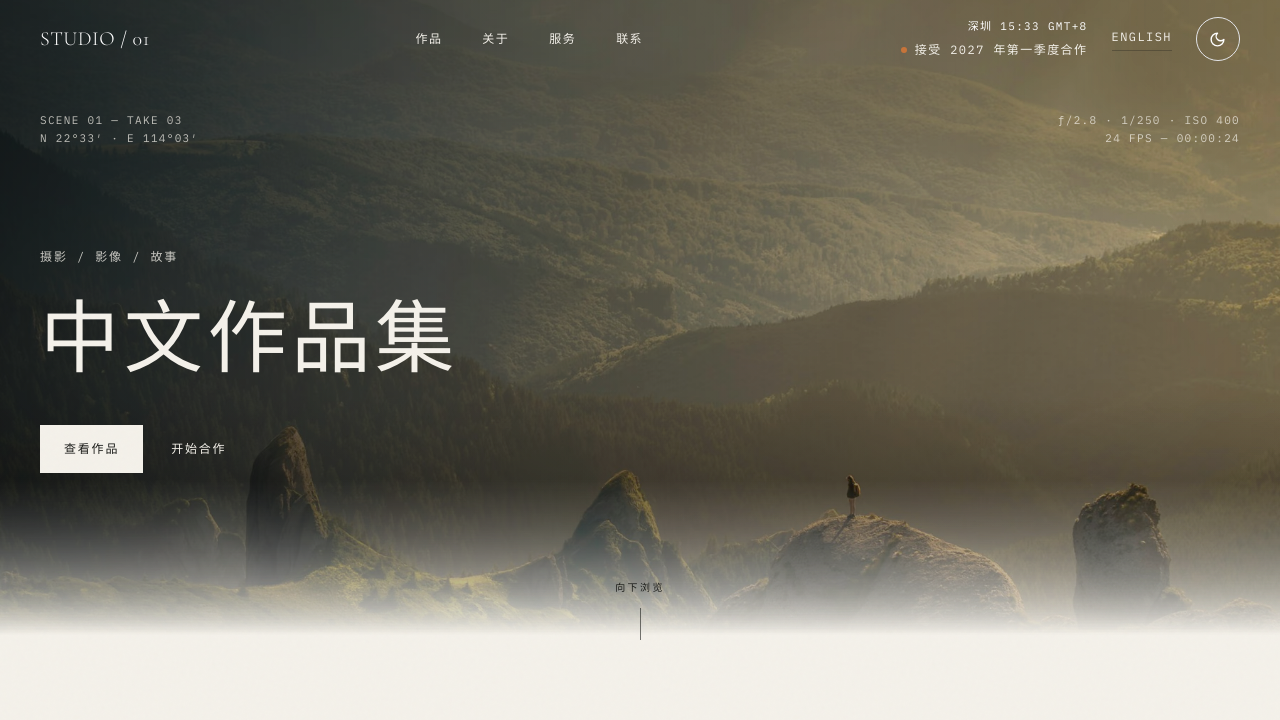
Scenario: admin to public content round trip › saves independent Chinese and English homepage copy
Check: the heading "中文作品集" is shown, box [40,293,459,389]
Click the button with aria-label "切换语言" at (1142, 39), box [1112,27,1172,51]
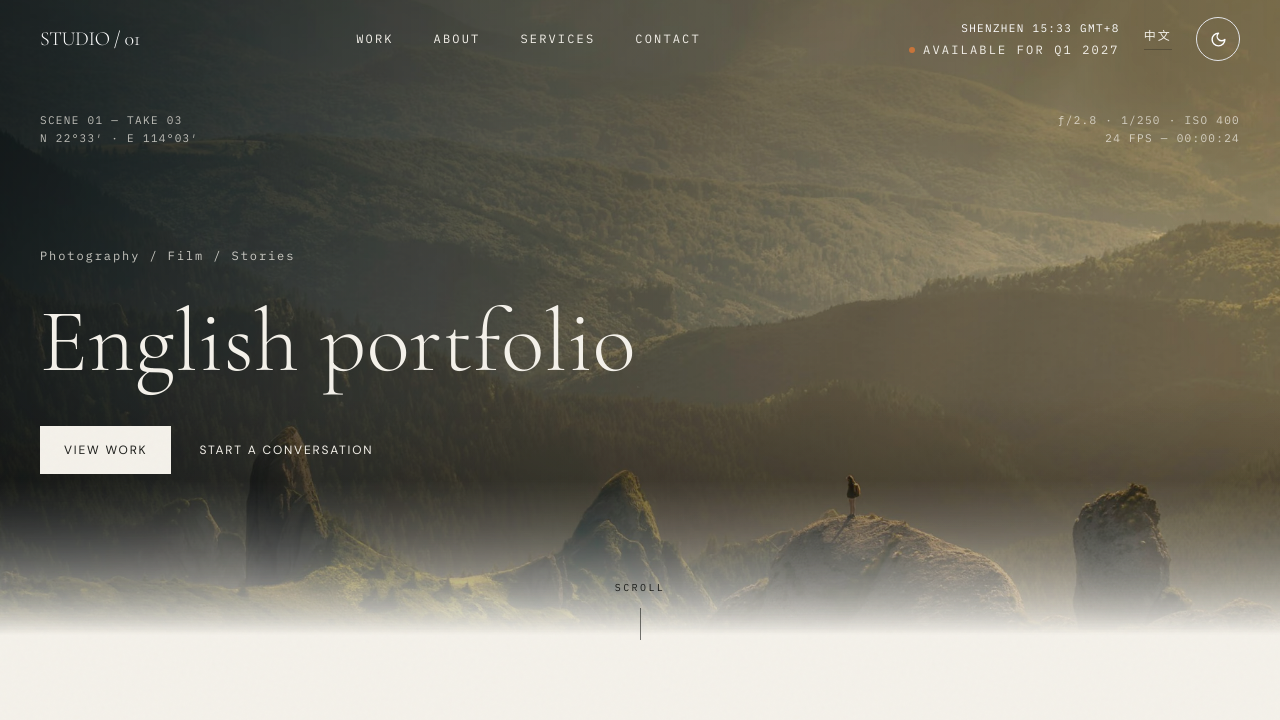
Check: the heading "English portfolio" is shown, box [40,287,636,396]
